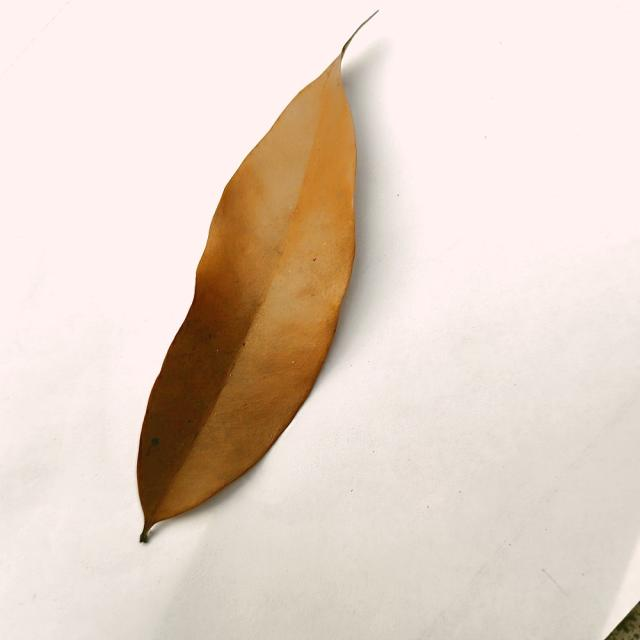Dry_Leaf-Lychee: (136, 55, 357, 542)
